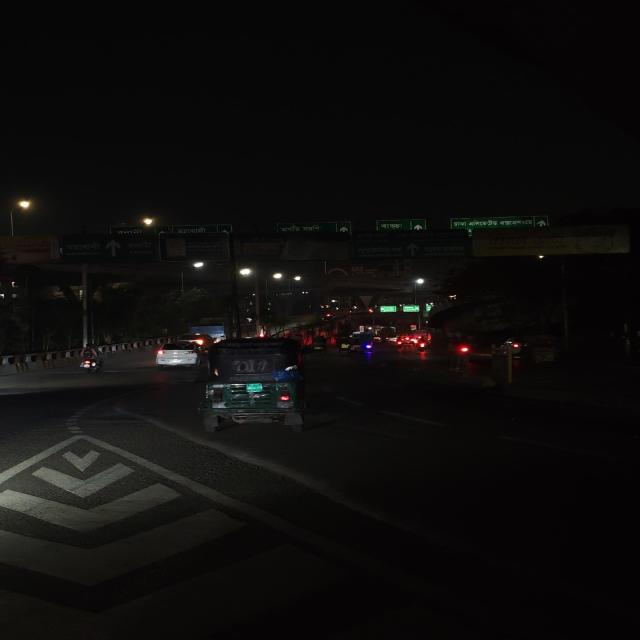car: (155, 338, 199, 373)
cng: (196, 339, 308, 436)
motorcycle: (74, 344, 105, 374), (415, 337, 427, 351)
rickshaw: (530, 334, 560, 368), (310, 334, 329, 356), (336, 336, 351, 355)
